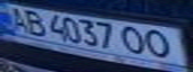0: (60, 15, 81, 44)
3: (78, 17, 100, 47)
4: (42, 12, 66, 39)
7: (93, 19, 118, 51)
A: (3, 4, 30, 33)
B: (18, 8, 48, 36)
O: (139, 27, 181, 61), (118, 24, 151, 55)
